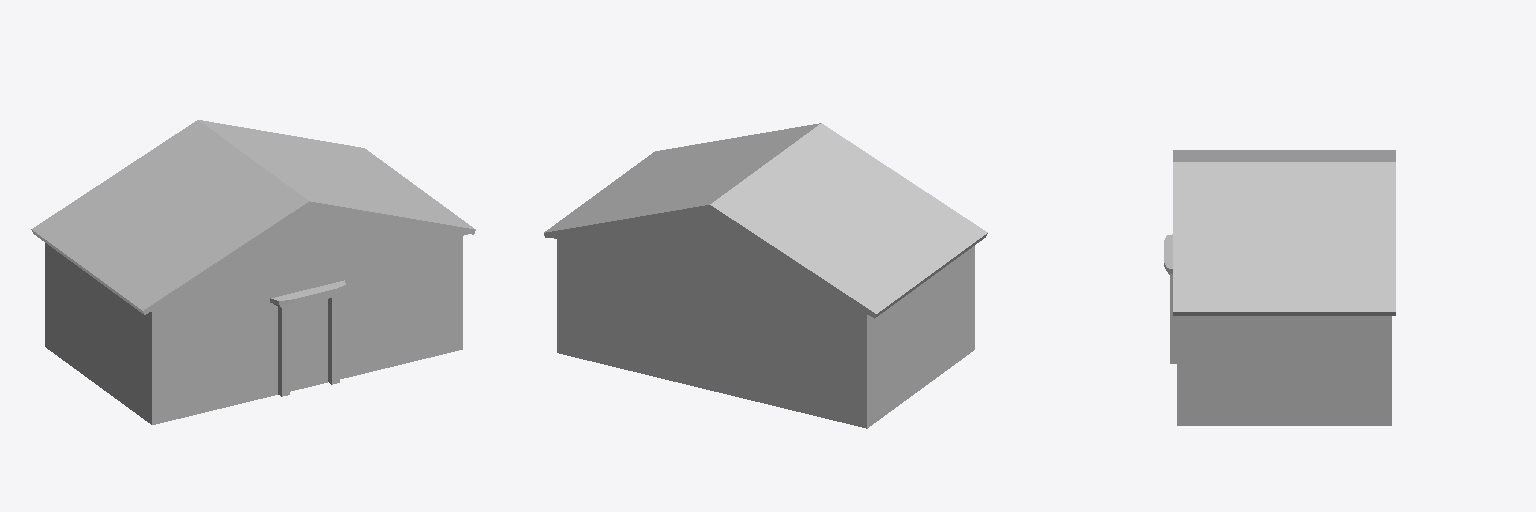
The model's file is houseModel_3.obj.
The picture shows the model from 3 angles: view 1: azimuth 30°, elevation 25°; view 2: azimuth 150°, elevation 25°; view 3: azimuth 270°, elevation 25°; orthographic projection.
Visible parts, largest first — view 1: doorFrame1; view 2: doorFrame1; view 3: doorFrame1.
Part boxes in pixels (x1,y1,x2,y2): doorFrame1: (31,120,475,424); doorFrame1: (544,123,987,428); doorFrame1: (1164,150,1395,425).
Bounding box in the file's own units: 10.73 × 5.77 × 6.47.